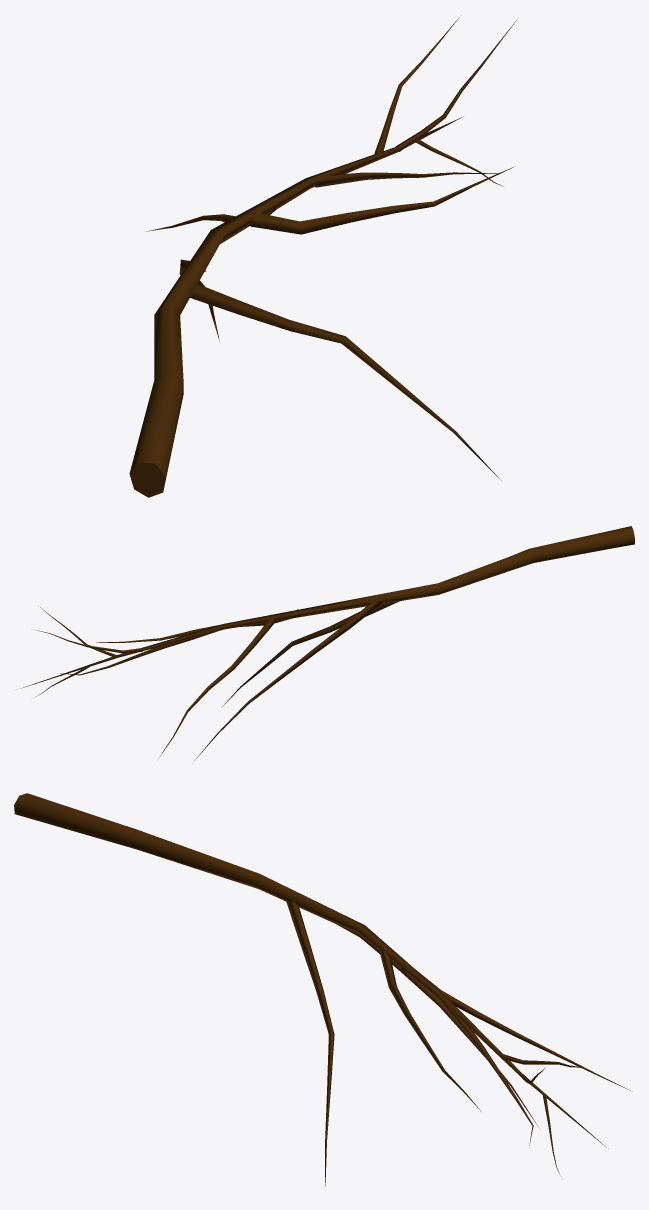
File: Branch002.FBX
3 renders of one model, top to bottom at view 1: azimuth 30°, elevation 25°; view 2: azimuth 150°, elevation 25°; view 3: azimuth 270°, elevation 25°, orthographic. The views are drawn at different scales.
Visible parts, largest first — view 1: Branch002; view 2: Branch002; view 3: Branch002.
Boxes of the visible parts, <box> form: Branch002: <box>129,17,516,497</box>; Branch002: <box>21,526,634,763</box>; Branch002: <box>14,793,632,1186</box>.
Bounding box in the file's own units: 125 × 51.02 × 132.
